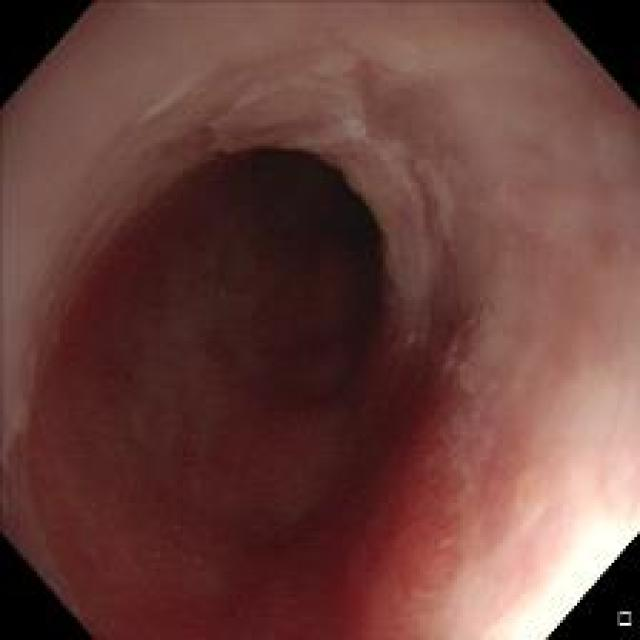color misalignment: (339, 172, 374, 210)
contrast: (185, 138, 398, 455)
saturation: (429, 461, 638, 636)
